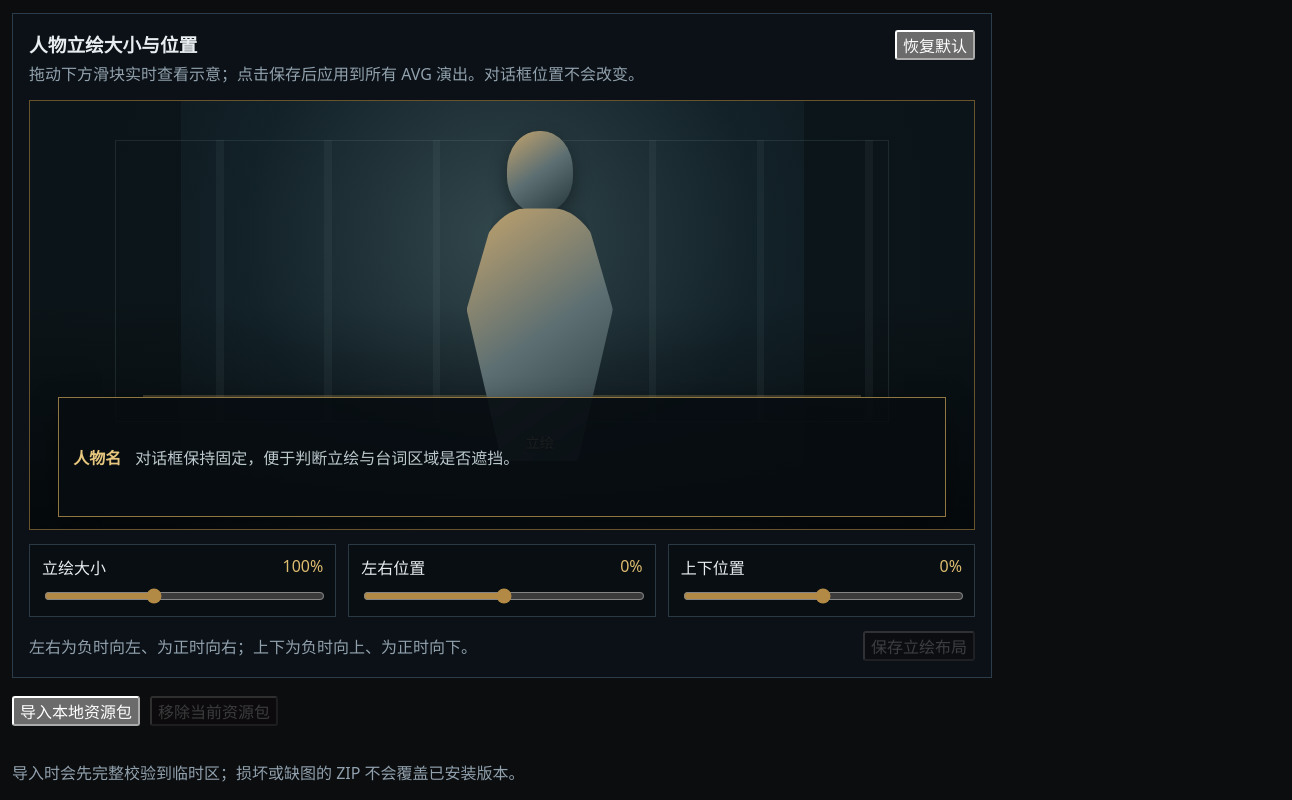
Test: AvgResourcePackSettingsPanel › previews portrait layout edits before explicitly saving them
(page scrolled)
Set the slider named "立绘大小" to "135" at (225, 596), box [44,588,325,604]
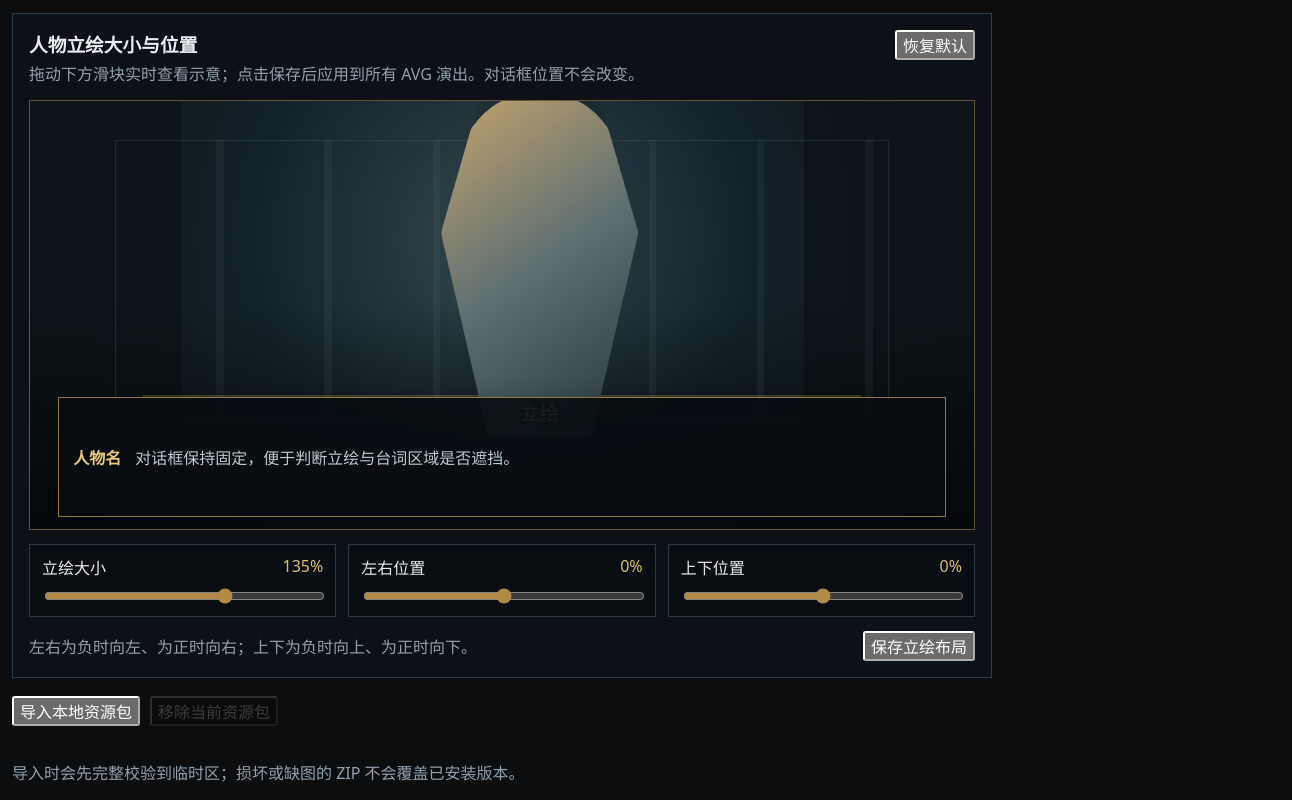
Set the slider named "立绘左右位置" to "-12" at (464, 596), box [363,588,645,604]
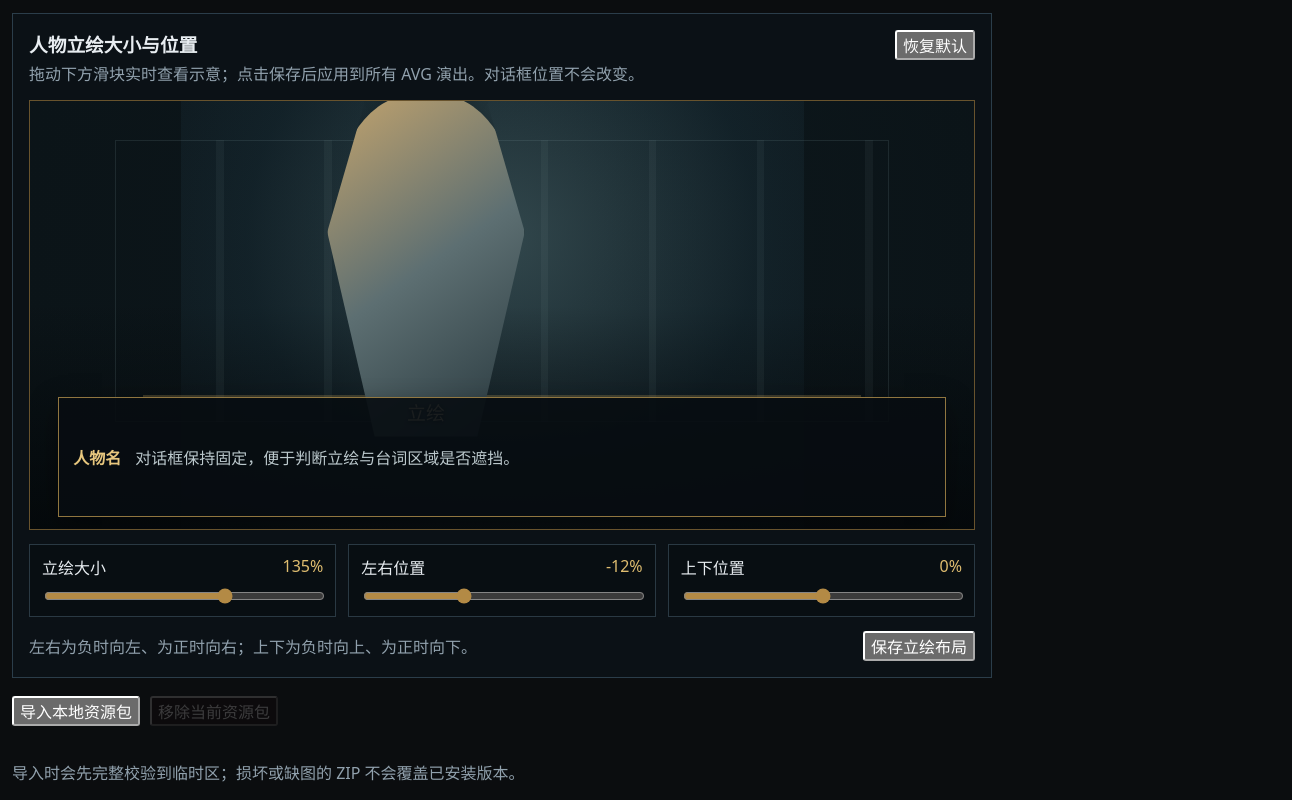
Set the slider named "立绘上下位置" to "8" at (859, 596), box [683,588,964,604]
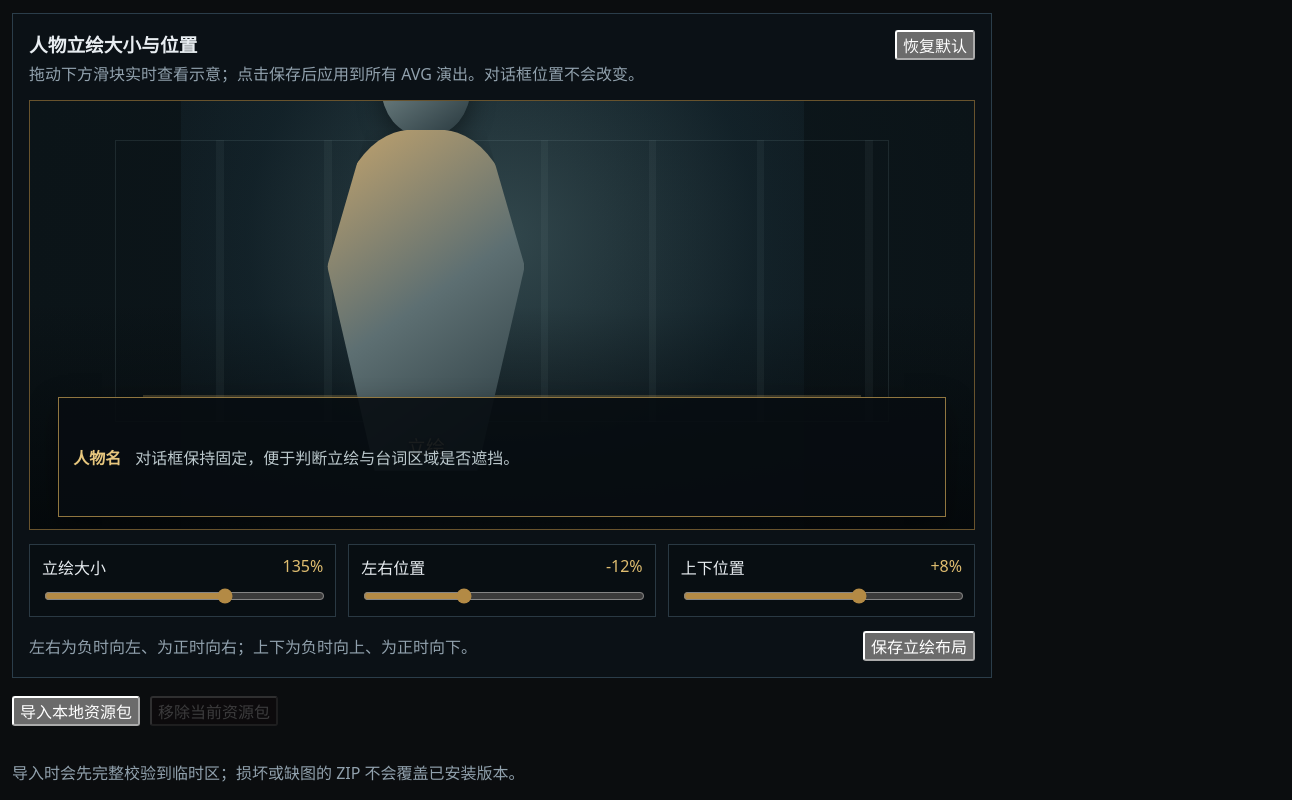
Click the button "保存立绘布局" at (919, 646), box [863,632,975,662]
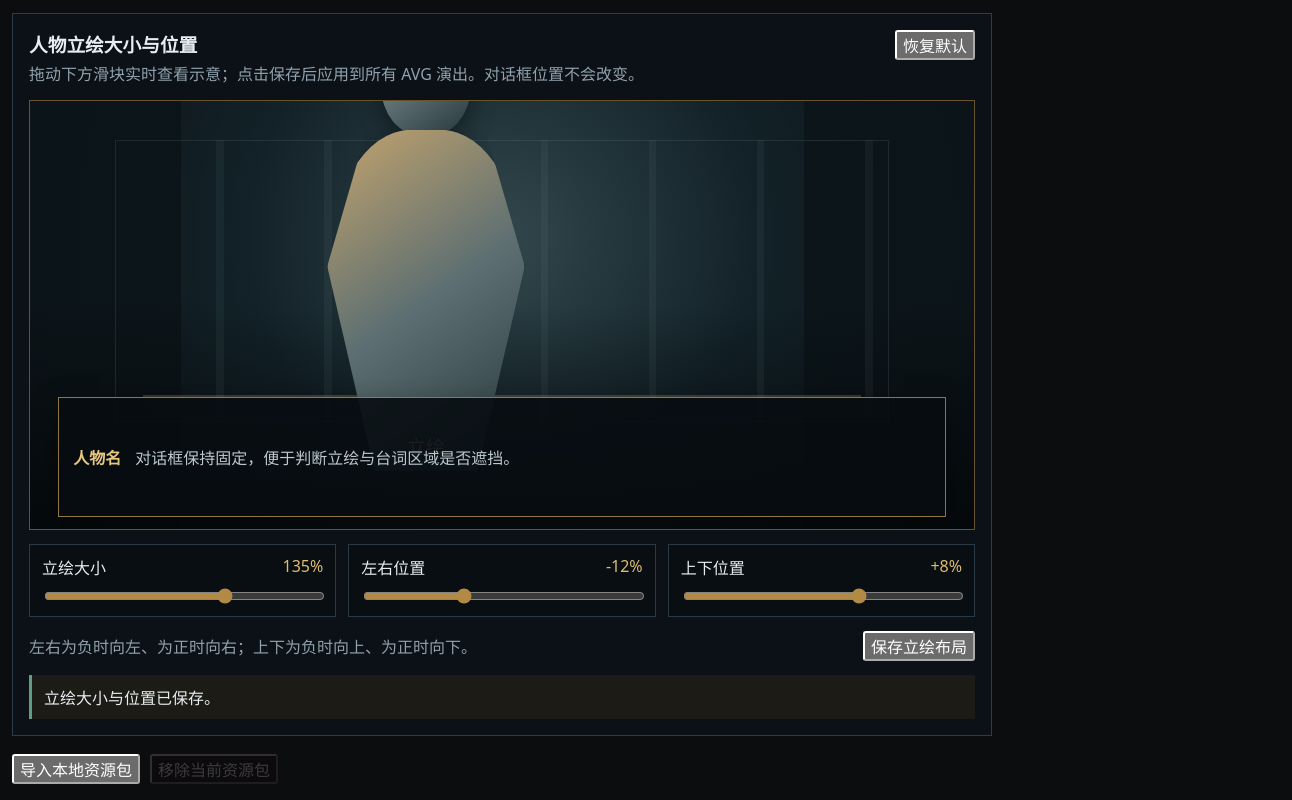
Now the text "立绘大小与位置已保存。" is shown, box [29,676,975,720]
